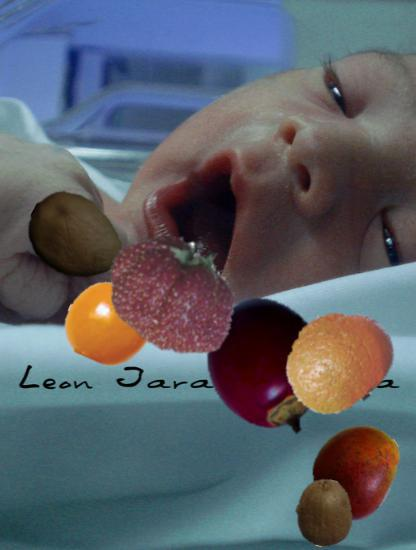Kiwi: (291, 479, 359, 547)
Mandarine: (281, 302, 397, 418)
Mango: (310, 423, 406, 519)
Papaya: (25, 188, 125, 288)
Physalis: (66, 280, 153, 367)
Strawberry: (104, 222, 245, 363)
Tamarillo: (198, 296, 339, 437)
